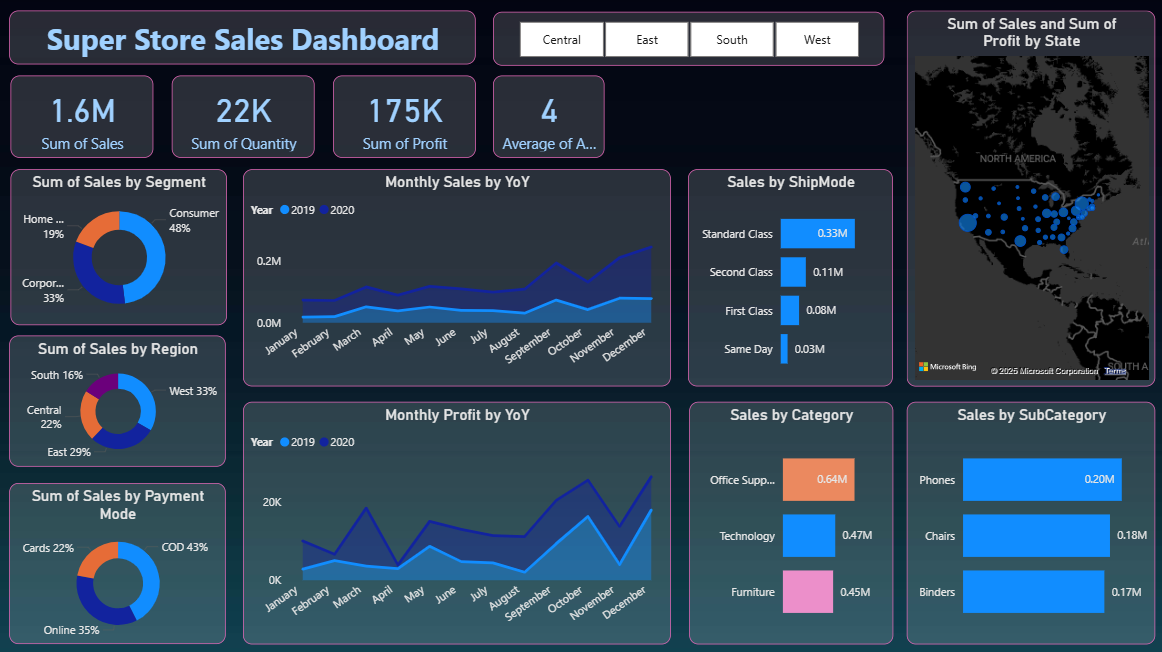

The dashboard page shown, as its layout file describes it:
{"tool":"powerbi","page":{"name":"Page 1","canvas":[1280,720],"ordinal":0},"visuals":[{"type":"clusteredBarChart","title":"Sales by Category","fields":{"Category":["SuperStore_Sales_Dataset.Category"],"Y":["Sum(SuperStore_Sales_Dataset.Sales)"]},"box":[758.8,443.2,223.7,266.2],"z":0},{"type":"clusteredBarChart","title":"Sales by SubCategory","fields":{"Y":["Sum(SuperStore_Sales_Dataset.Sales)"],"Category":["SuperStore_Sales_Dataset.Sub-Category"]},"box":[997.6,443.2,273.1,266.2],"z":1000},{"type":"clusteredBarChart","title":"Sales by ShipMode","fields":{"Y":["Sum(SuperStore_Sales_Dataset.Sales)"],"Category":["SuperStore_Sales_Dataset.Ship Mode"]},"box":[757.5,188,225,238.8],"z":2000},{"type":"stackedAreaChart","title":"Monthly Sales by YoY","fields":{"Category":["SuperStore_Sales_Dataset.Order Date.Variation.Date Hierarchy.Month","SuperStore_Sales_Dataset.Order Date.Variation.Date Hierarchy.Day"],"Y":["Sum(SuperStore_Sales_Dataset.Sales)"],"Series":["SuperStore_Sales_Dataset.Order Date.Variation.Date Hierarchy.Year"]},"box":[269,188,469.3,238.8],"z":3000},{"type":"stackedAreaChart","title":"Monthly Profit by YoY","fields":{"Category":["SuperStore_Sales_Dataset.Order Date.Variation.Date Hierarchy.Month","SuperStore_Sales_Dataset.Order Date.Variation.Date Hierarchy.Day"],"Series":["SuperStore_Sales_Dataset.Order Date.Variation.Date Hierarchy.Year"],"Y":["Sum(SuperStore_Sales_Dataset.Profit)"]},"box":[269,443.2,469.3,266.2],"z":4000},{"type":"map","fields":{"Category":["SuperStore_Sales_Dataset.State"],"Size":["Sum(SuperStore_Sales_Dataset.Sales)"]},"box":[997.6,13.7,273.1,413],"z":5000},{"type":"donutChart","fields":{"Category":["SuperStore_Sales_Dataset.Segment"],"Y":["Sum(SuperStore_Sales_Dataset.Sales)"]},"box":[13.7,188,237.4,171.5],"z":6000},{"type":"donutChart","fields":{"Category":["SuperStore_Sales_Dataset.Payment Mode"],"Y":["Sum(SuperStore_Sales_Dataset.Sales)"]},"box":[12.3,532.4,237.4,177],"z":7000},{"type":"donutChart","fields":{"Category":["SuperStore_Sales_Dataset.Region"],"Y":["Sum(SuperStore_Sales_Dataset.Sales)"]},"box":[12.3,370.5,237.4,144.1],"z":8000},{"type":"slicer","fields":{"Values":["SuperStore_Sales_Dataset.Region"]},"box":[543.4,15.1,429.5,59],"z":9000},{"type":"textbox","box":[12.3,13.7,511.8,59],"z":10000},{"type":"card","fields":{"Values":["Sum(SuperStore_Sales_Dataset.Sales)"]},"box":[13.7,85.1,156.4,90.6],"z":11000},{"type":"card","fields":{"Values":["Sum(SuperStore_Sales_Dataset.Quantity)"]},"box":[190.7,85.1,156.4,90.6],"z":12000},{"type":"card","fields":{"Values":["Sum(SuperStore_Sales_Dataset.Profit)"]},"box":[367.8,85.1,156.4,90.6],"z":13000},{"type":"card","fields":{"Values":["Avg(SuperStore_Sales_Dataset.AvgDelivery)"]},"box":[543.4,85.1,122.1,90.6],"z":14000}]}

Visuals, with their boxes in screenshot pixels (x1, y1, x2, y2), scaled from the page's 1280x720 canvas onto the 1162x652 screenshot:
"Sales by Category" clusteredBarChart: BBox(689, 401, 892, 642)
"Sales by SubCategory" clusteredBarChart: BBox(906, 401, 1154, 642)
"Sales by ShipMode" clusteredBarChart: BBox(688, 170, 892, 386)
"Monthly Sales by YoY" stackedAreaChart: BBox(244, 170, 670, 386)
"Monthly Profit by YoY" stackedAreaChart: BBox(244, 401, 670, 642)
map - SuperStore_Sales_Dataset.State x Sum(SuperStore_Sales_Dataset.Sales): BBox(906, 12, 1154, 386)
donutChart - SuperStore_Sales_Dataset.Segment x Sum(SuperStore_Sales_Dataset.Sales): BBox(12, 170, 228, 326)
donutChart - SuperStore_Sales_Dataset.Payment Mode x Sum(SuperStore_Sales_Dataset.Sales): BBox(11, 482, 227, 642)
donutChart - SuperStore_Sales_Dataset.Region x Sum(SuperStore_Sales_Dataset.Sales): BBox(11, 336, 227, 466)
slicer - SuperStore_Sales_Dataset.Region: BBox(493, 14, 883, 67)
textbox: BBox(11, 12, 476, 66)
card - Sum(SuperStore_Sales_Dataset.Sales): BBox(12, 77, 154, 159)
card - Sum(SuperStore_Sales_Dataset.Quantity): BBox(173, 77, 315, 159)
card - Sum(SuperStore_Sales_Dataset.Profit): BBox(334, 77, 476, 159)
card - Avg(SuperStore_Sales_Dataset.AvgDelivery): BBox(493, 77, 604, 159)
